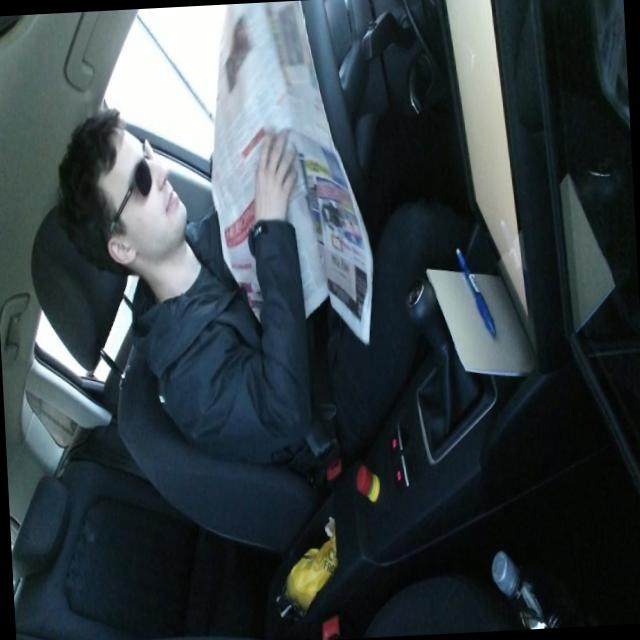pen: (454, 243, 496, 340)
